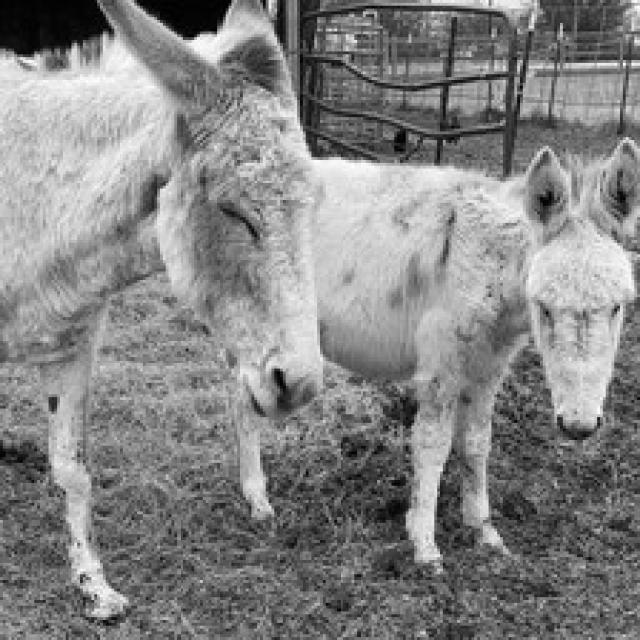Donkey: (0, 0, 323, 623), (306, 137, 637, 574)
